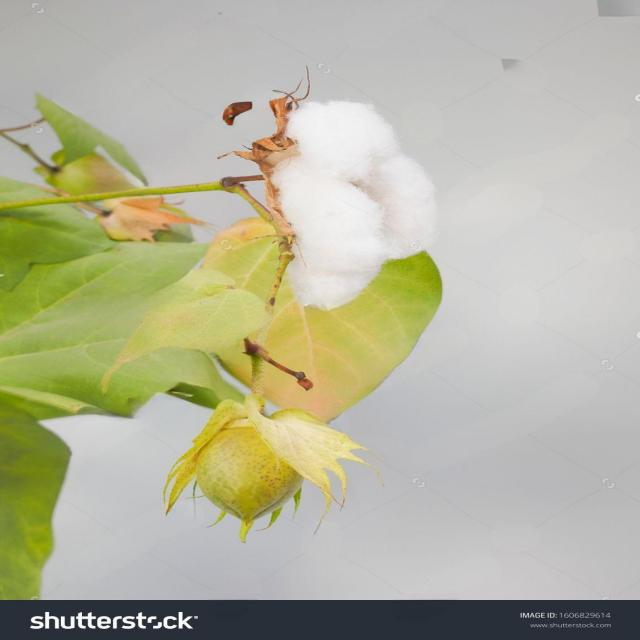Leaf: (206, 67, 464, 322)
